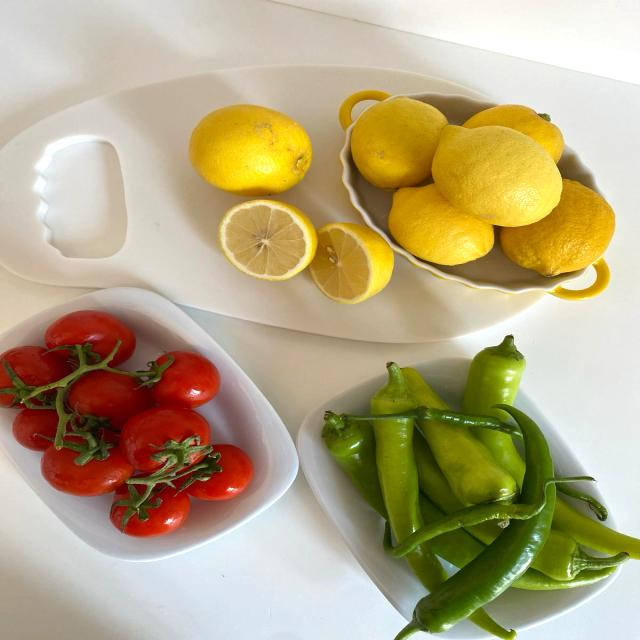green pepper: (391, 401, 561, 640)
lemon: (432, 116, 572, 232), (180, 100, 323, 198), (212, 195, 327, 283), (297, 218, 407, 307)
tomato: (117, 399, 219, 482)
